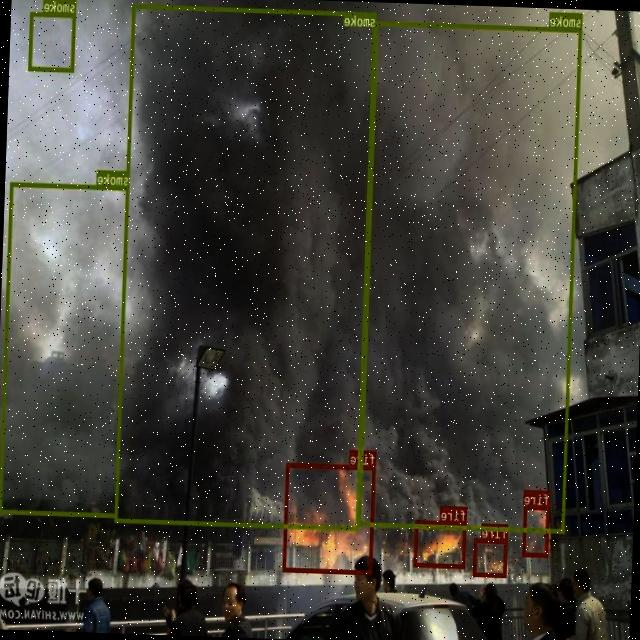fire: (283, 462, 376, 574), (413, 520, 468, 568), (522, 504, 550, 556), (473, 538, 508, 576)
smoke: (115, 3, 376, 530), (358, 20, 582, 532), (0, 181, 129, 516), (29, 10, 76, 72)
